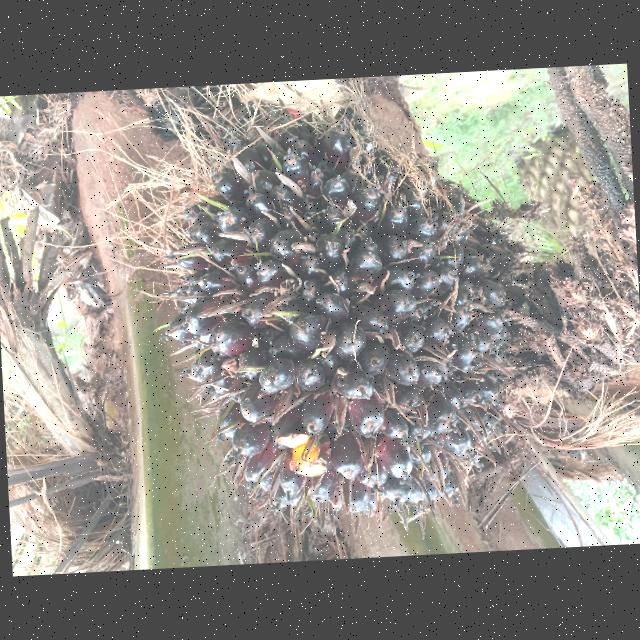Unripe: (172, 113, 513, 513)
